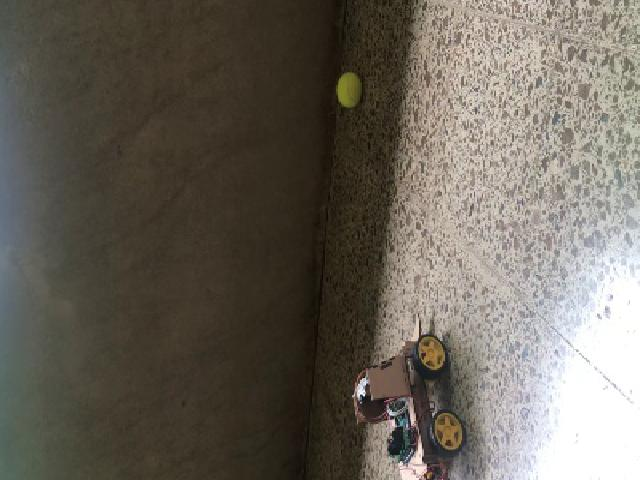Ball: (334, 72, 360, 108)
Robot: (350, 313, 464, 479)
